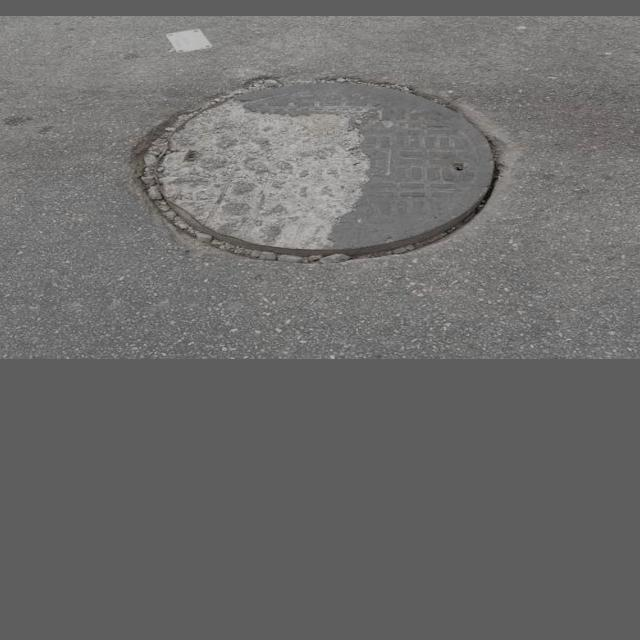circle: (113, 65, 517, 267)
